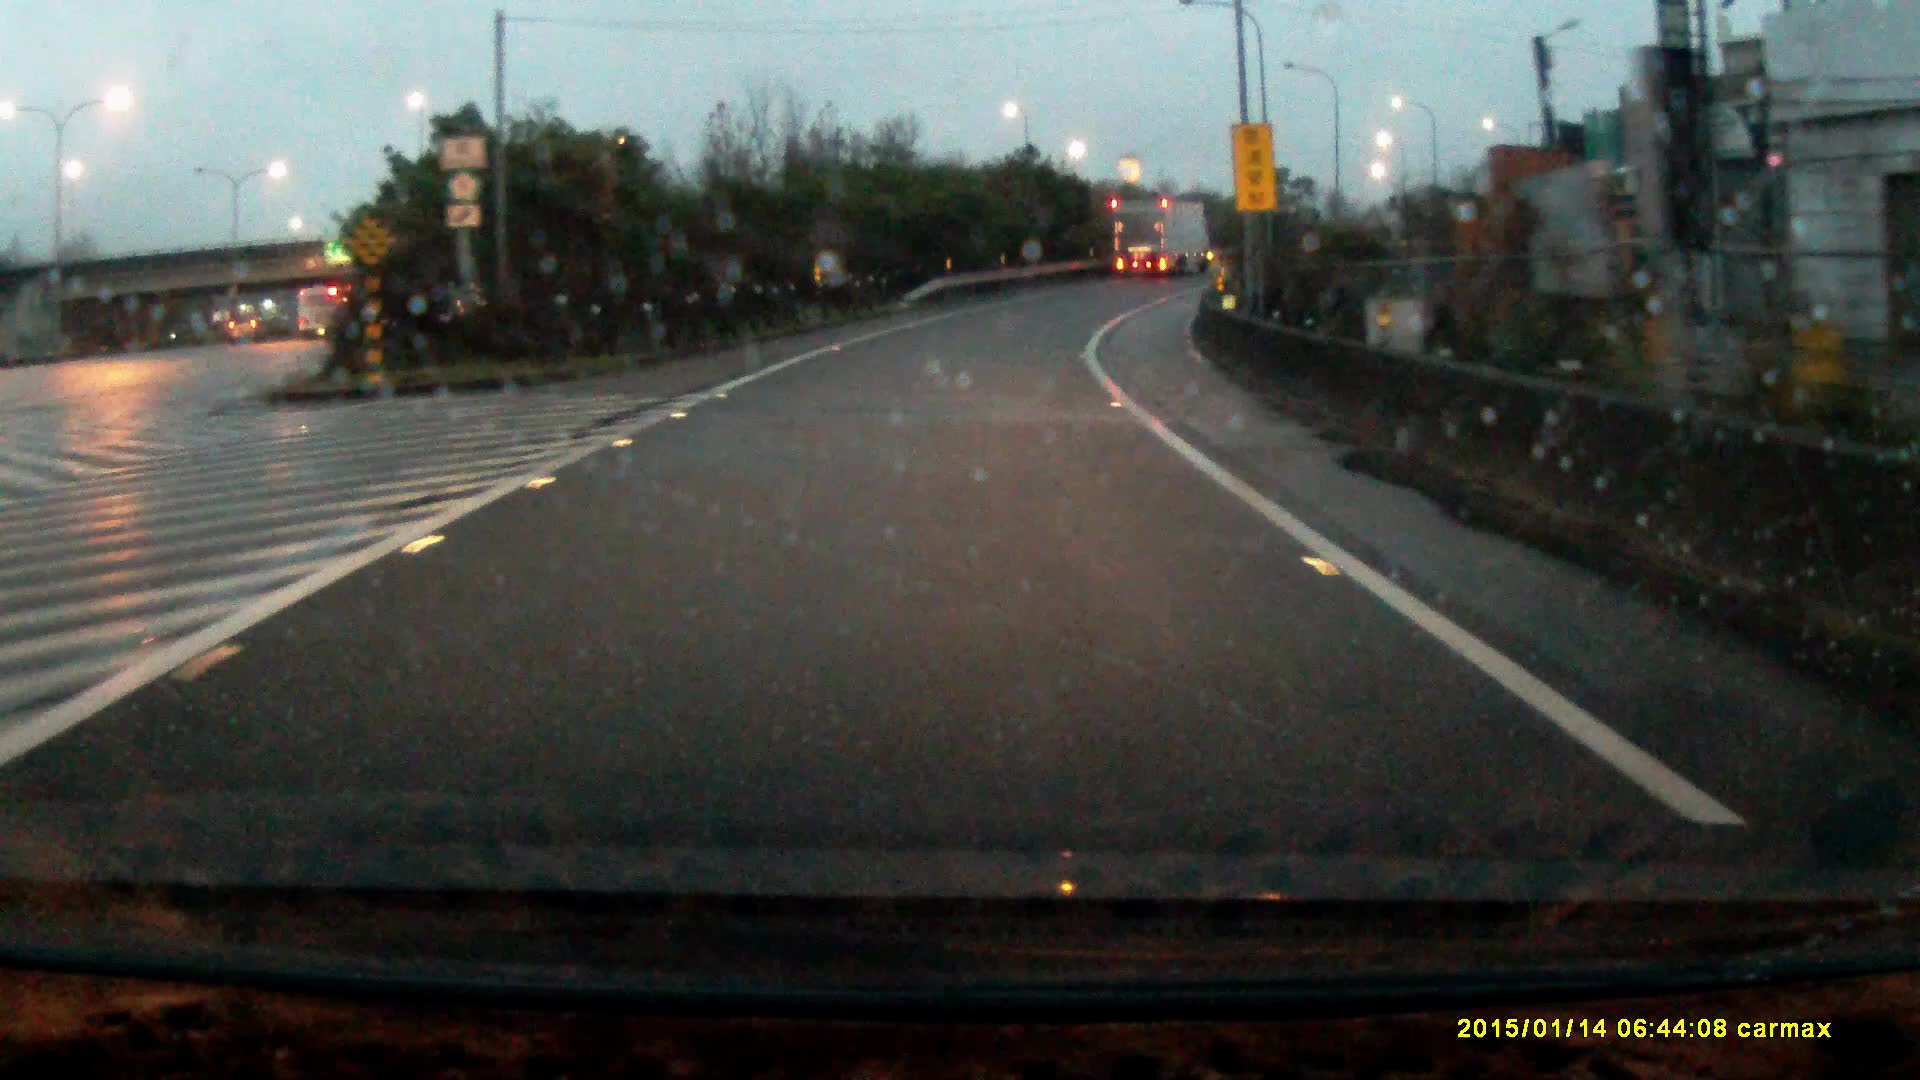vehicle: (1112, 200, 1211, 282), (229, 313, 266, 344)
